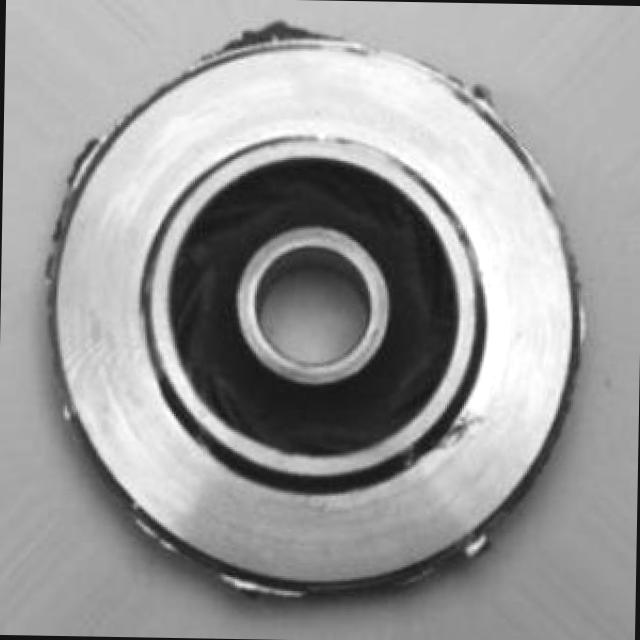Defect: (222, 14, 332, 52)
